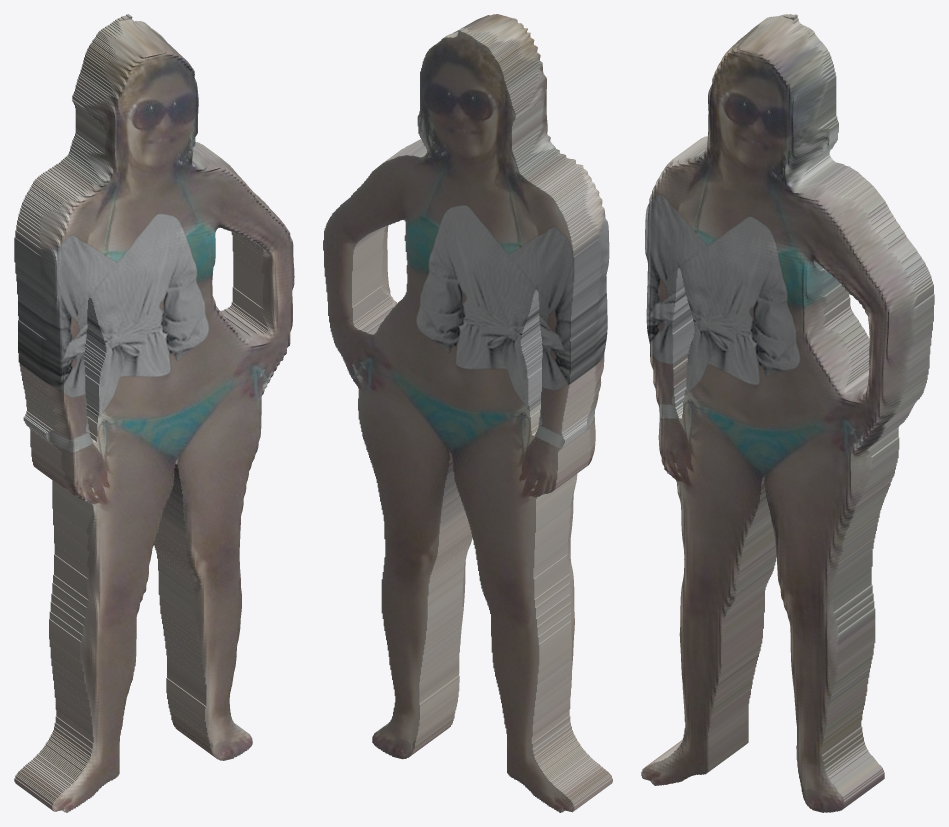
Rendered from avatar_20260218_230920.glb.
3 renders of one model, left to right at view 1: azimuth 30°, elevation 25°; view 2: azimuth 150°, elevation 25°; view 3: azimuth 330°, elevation 25°, orthographic. The views are drawn at different scales.
Visible parts, largest first — view 1: world; view 2: world; view 3: world.
Part boxes in pixels (x1=…): world: x1=14, y1=14, x2=294, y2=812; world: x1=323, y1=14, x2=612, y2=812; world: x1=641, y1=14, x2=934, y2=812.
Bounding box in the file's own units: 56.05 × 162 × 16.46.
